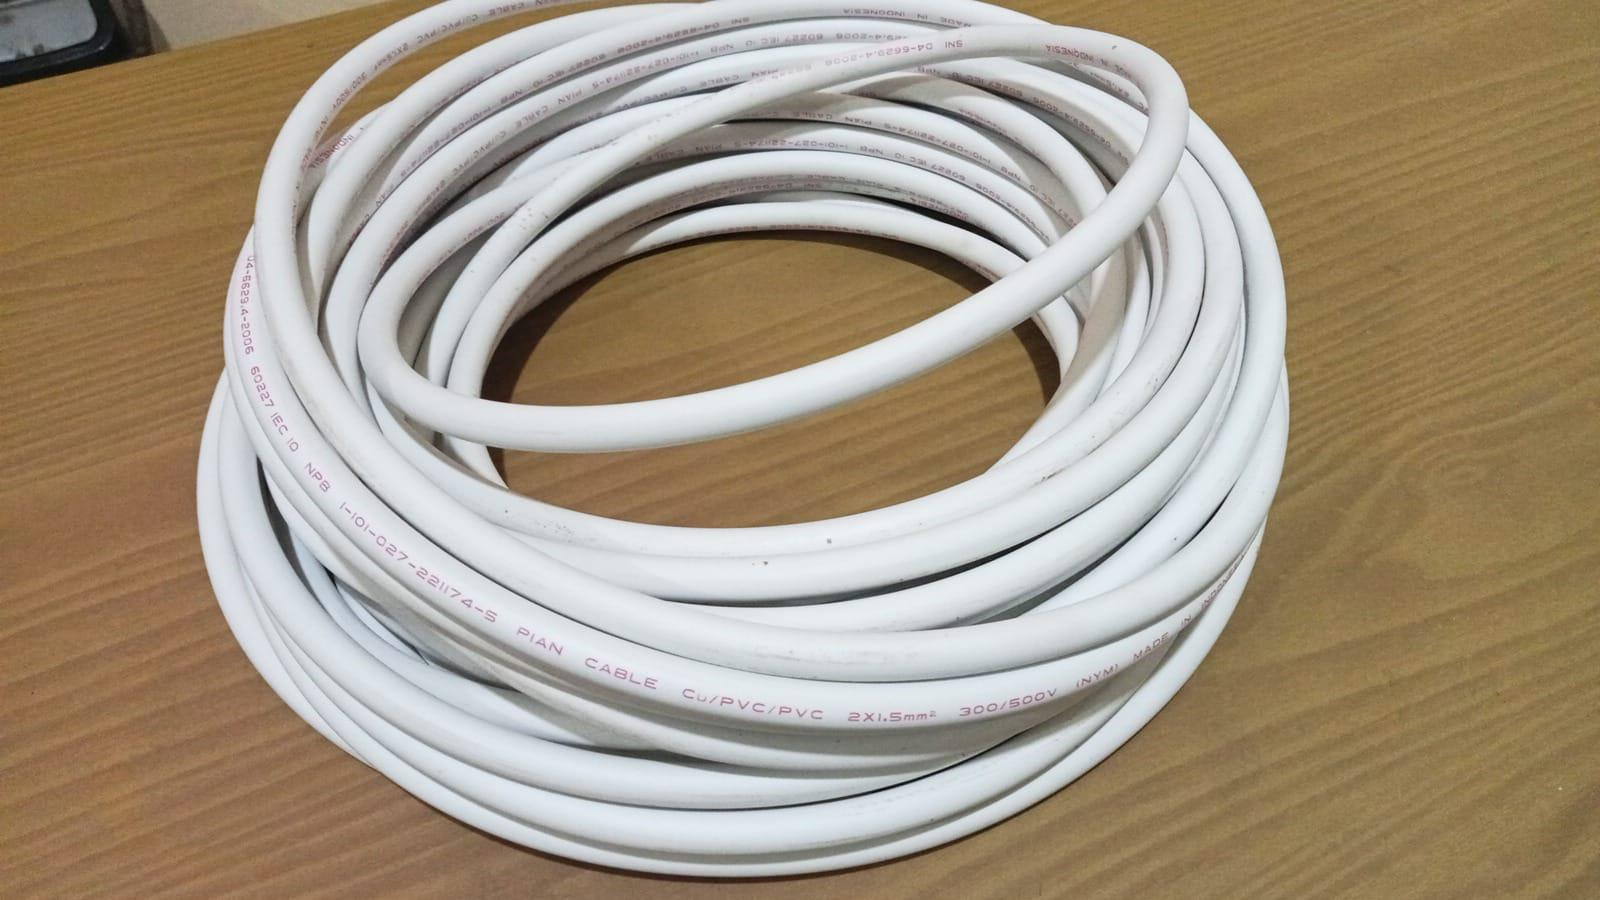PVC: (88, 0, 1321, 900)
